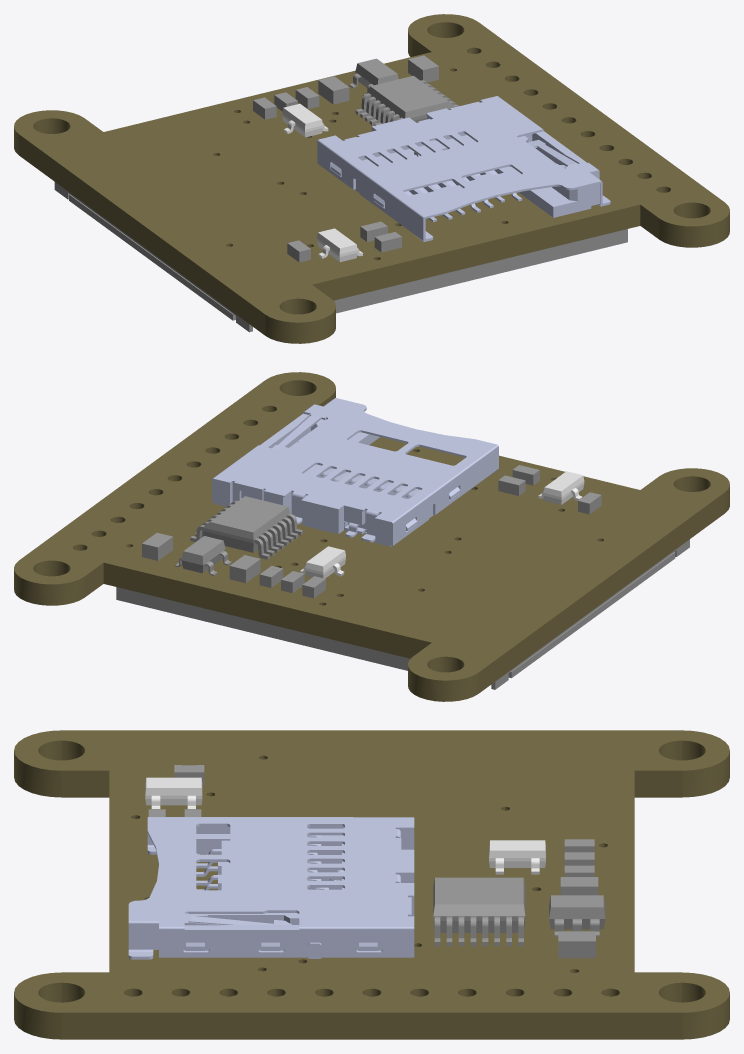
The model's file is ada-4313.glb.
The picture shows the model from 3 angles, top to bottom: view 1: azimuth 30°, elevation 25°; view 2: azimuth 150°, elevation 25°; view 3: azimuth 270°, elevation 25°; orthographic projection. The views are drawn at different scales.
Visible parts, largest first — view 1: 0.16666666666666666_0.16666666666666666_0.08333333333333333_, 0.5833333333333334_0.6666666666666666_0.8333333333333334_0, 0.3333333333333333_0.3333333333333333_0.3333333333333333_0, 0.9166666666666666_0.9166666666666666_0.9166666666666666_0.8; view 2: 0.16666666666666666_0.16666666666666666_0.08333333333333333_, 0.5833333333333334_0.6666666666666666_0.8333333333333334_0, 0.3333333333333333_0.3333333333333333_0.3333333333333333_0, 0.9166666666666666_0.9166666666666666_0.9166666666666666_0.8; view 3: 0.16666666666666666_0.16666666666666666_0.08333333333333333_, 0.5833333333333334_0.6666666666666666_0.8333333333333334_0, 0.3333333333333333_0.3333333333333333_0.3333333333333333_0, 0.9166666666666666_0.9166666666666666_0.9166666666666666_0.8.
Boxes of the visible parts, bbox=[...] form: 0.16666666666666666_0.16666666666666666_0.08333333333333333_: bbox=[14, 14, 729, 343]; 0.5833333333333334_0.6666666666666666_0.8333333333333334_0: bbox=[317, 96, 610, 241]; 0.3333333333333333_0.3333333333333333_0.3333333333333333_0: bbox=[54, 55, 627, 332]; 0.9166666666666666_0.9166666666666666_0.9166666666666666_0.8: bbox=[282, 103, 363, 262]; 0.16666666666666666_0.16666666666666666_0.08333333333333333_: bbox=[14, 372, 729, 701]; 0.5833333333333334_0.6666666666666666_0.8333333333333334_0: bbox=[212, 398, 498, 546]; 0.3333333333333333_0.3333333333333333_0.3333333333333333_0: bbox=[116, 465, 689, 689]; 0.9166666666666666_0.9166666666666666_0.9166666666666666_0.8: bbox=[300, 471, 584, 578]; 0.16666666666666666_0.16666666666666666_0.08333333333333333_: bbox=[14, 730, 729, 1039]; 0.5833333333333334_0.6666666666666666_0.8333333333333334_0: bbox=[128, 817, 414, 959]; 0.3333333333333333_0.3333333333333333_0.3333333333333333_0: bbox=[148, 765, 605, 958]; 0.9166666666666666_0.9166666666666666_0.9166666666666666_0.8: bbox=[145, 777, 545, 874].
Size of the model in its own units: 3.56 by 0.4915 by 3.81.
